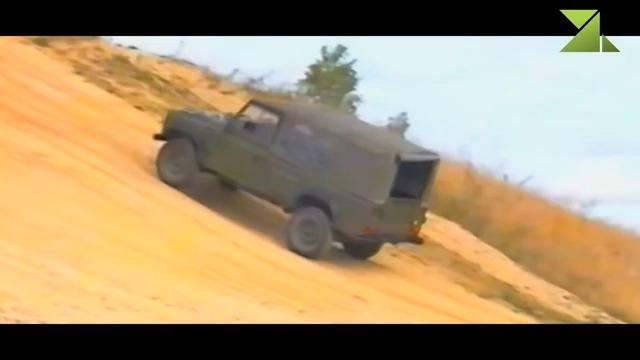MIL_HMMWV: (154, 96, 440, 262)
